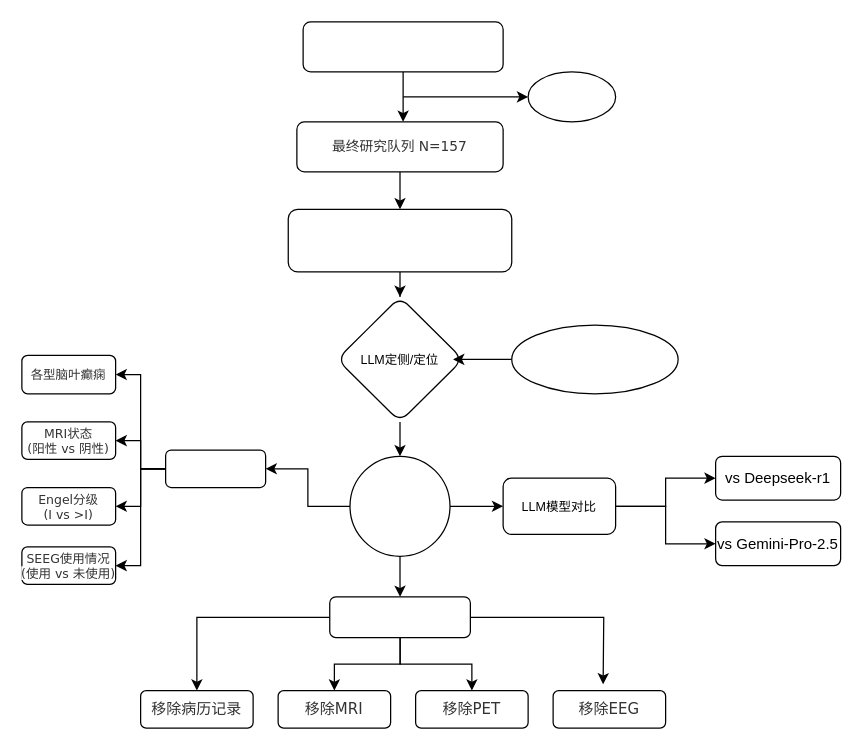
The diagram is 863 pixels wide and 750 high, and some of its shapes have lost their labels. The centre of each missing label's shape, as x and y in pixels:
"亚组分析" goes at [215,468].
"四模态基线性能" goes at [399,505].
"排除179例" goes at [571,96].
"提取多模态临床文本数据 (病历记录, MRI, EEG, PET报告)" goes at [399,240].
"模态消融实验" goes at [399,617].
"病例筛选: 耐药性局灶性癫痫术前评估患者(n=336)" goes at [402,46].
"金标准 (MDT: 定侧定位致痫脑叶)" goes at [594,359].
